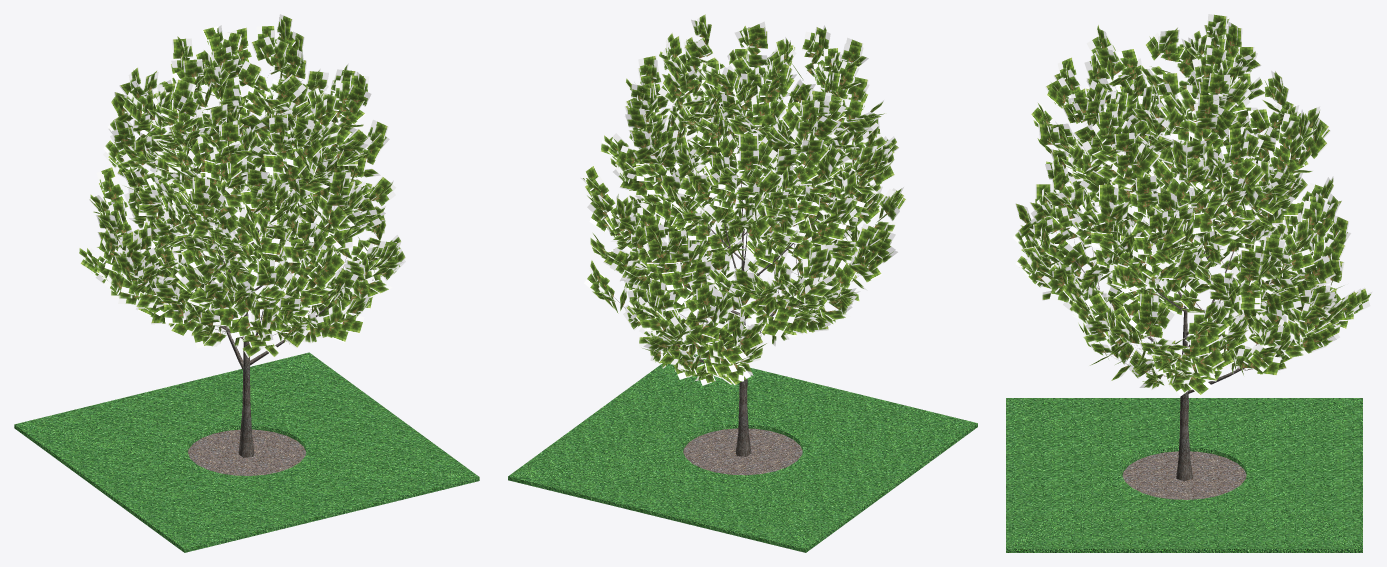
Rendered from maple-tree.glb.
3 views of the same model, side by side, from view 1: azimuth 30°, elevation 25°; view 2: azimuth 150°, elevation 25°; view 3: azimuth 270°, elevation 25° (orthographic). The views are drawn at different scales.
Visible parts, largest first — view 1: Material2 (×3); view 2: Material2 (×3); view 3: Material2 (×3).
Boxes of the visible parts, x1,y1,x2,y2 form: Material2 (×3): (14, 246, 479, 552); Material2 (×3): (508, 230, 977, 552); Material2 (×3): (1006, 285, 1362, 552).
Bounding box in the file's own units: 242 × 325 × 247.
Materials: 4 (4 with a texture image).
